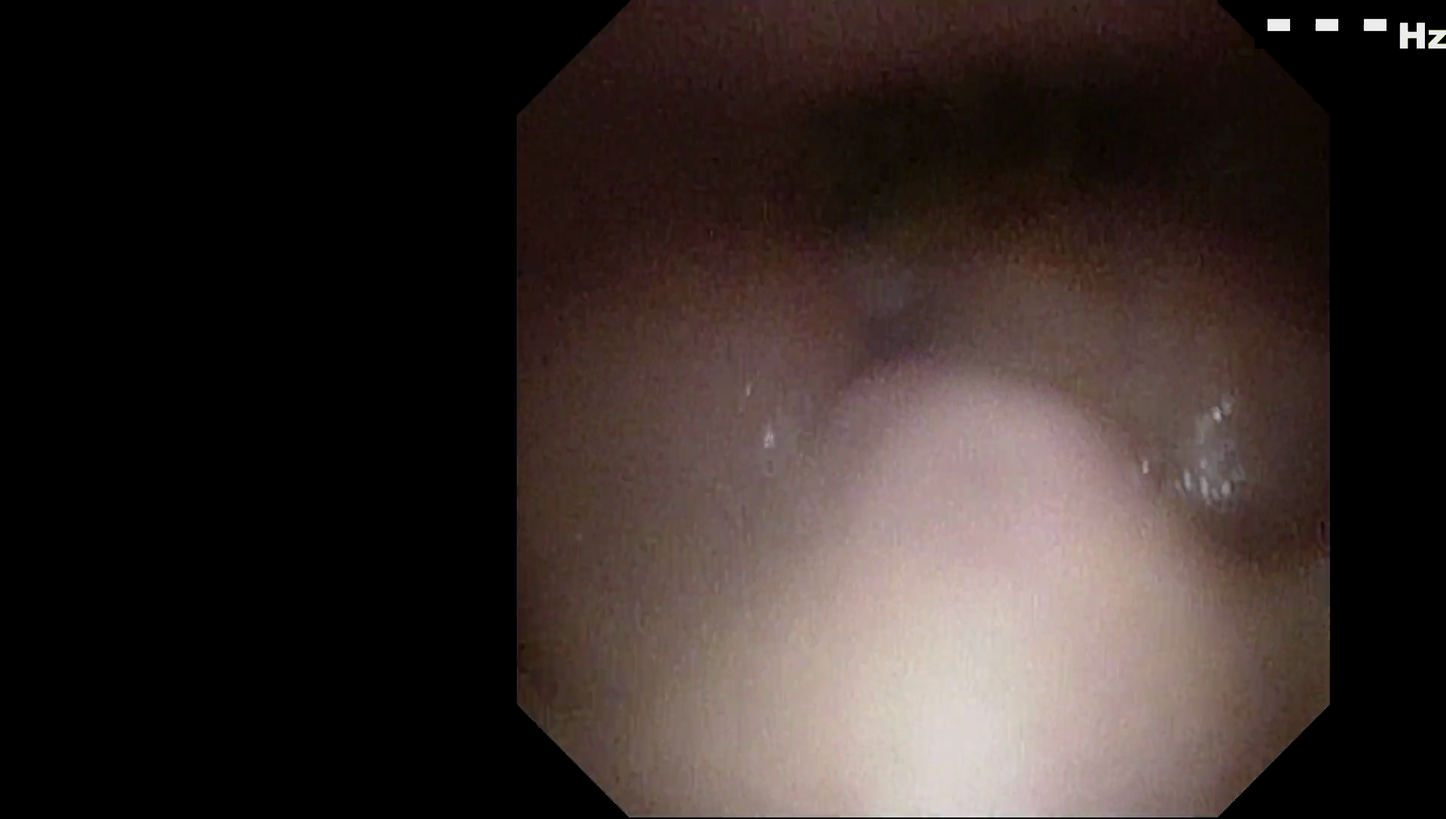close_wall: (635, 401, 1189, 817)
next: (770, 44, 1194, 252)
